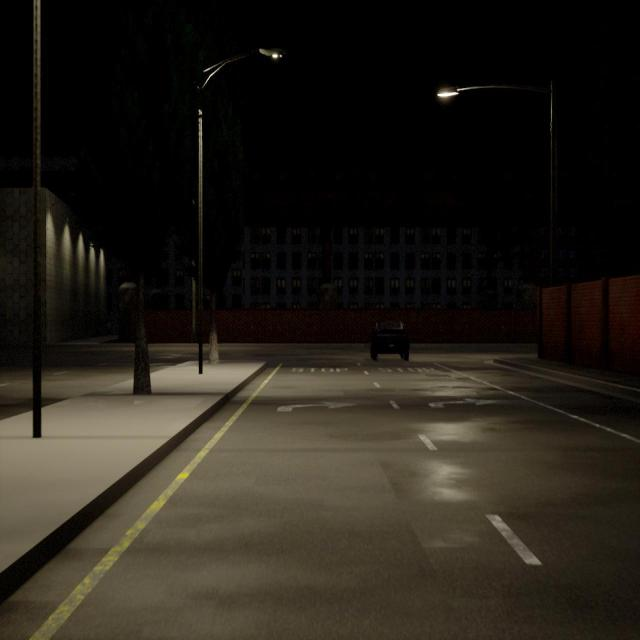Vehicle: (370, 321, 408, 360)
